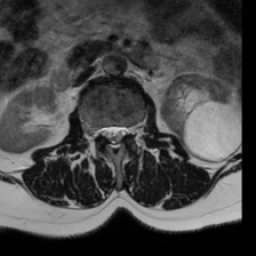CCS_normal: (110, 116, 118, 156)
LFS_normal: (127, 116, 136, 143)
LLS_normal: (118, 118, 127, 145)
RFS_normal: (93, 116, 101, 144)
RLS_normal: (101, 118, 110, 146)
